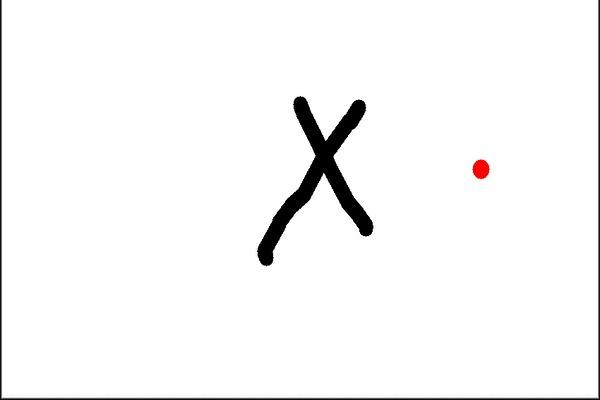Z: (250, 84, 391, 278)
